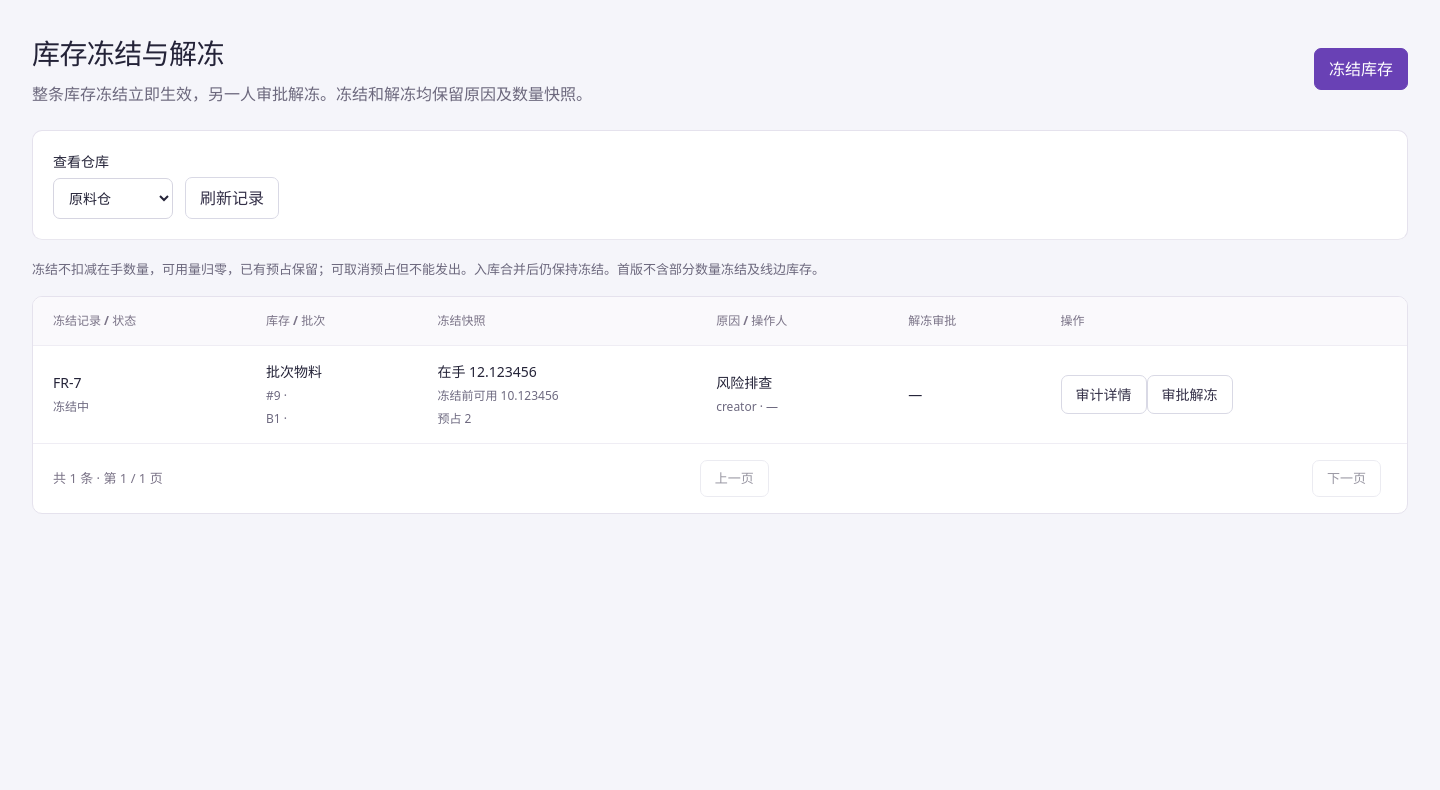
it: keeps a completed write successful when refreshing its list fails
Click the button "审批解冻". click: (1190, 394)
box: x1=1146 y1=374 x2=1232 y2=414
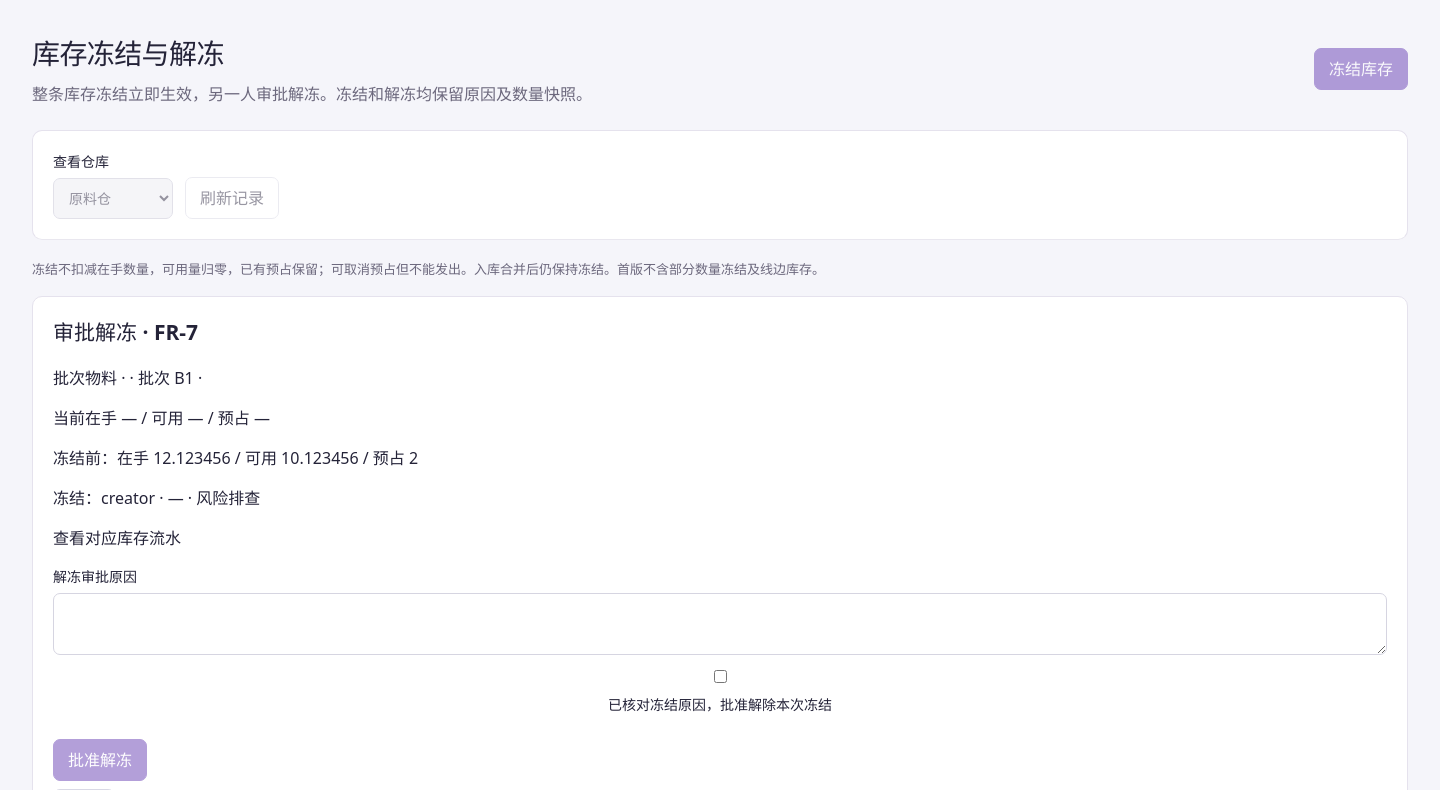
Type "已复核" into the text box labelled "解冻审批原因". click: (720, 624)
box: x1=53 y1=593 x2=1387 y2=655
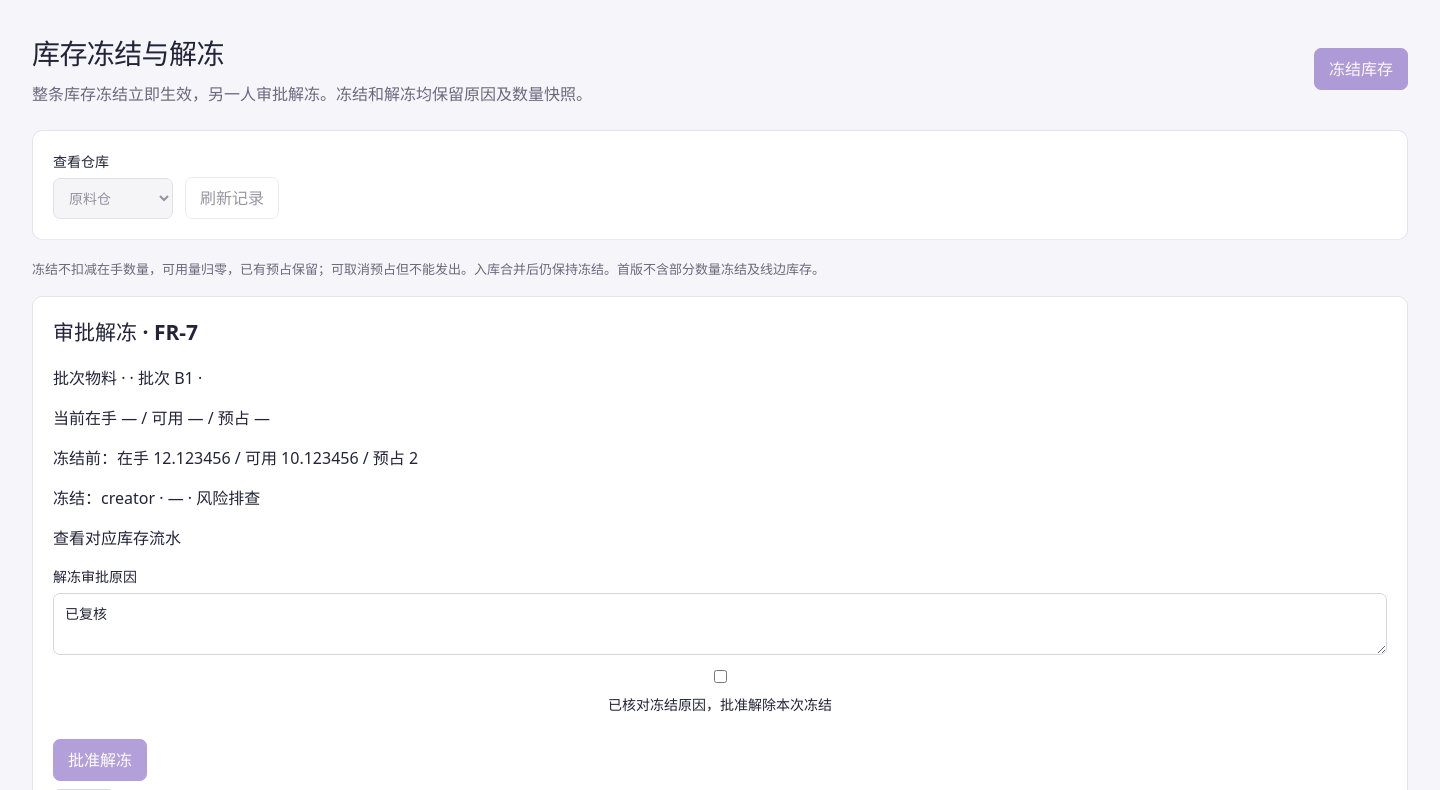
Click the checkbox labelled "已核对冻结原因，批准解除本次冻结". click: (720, 676)
box: x1=714 y1=670 x2=727 y2=683
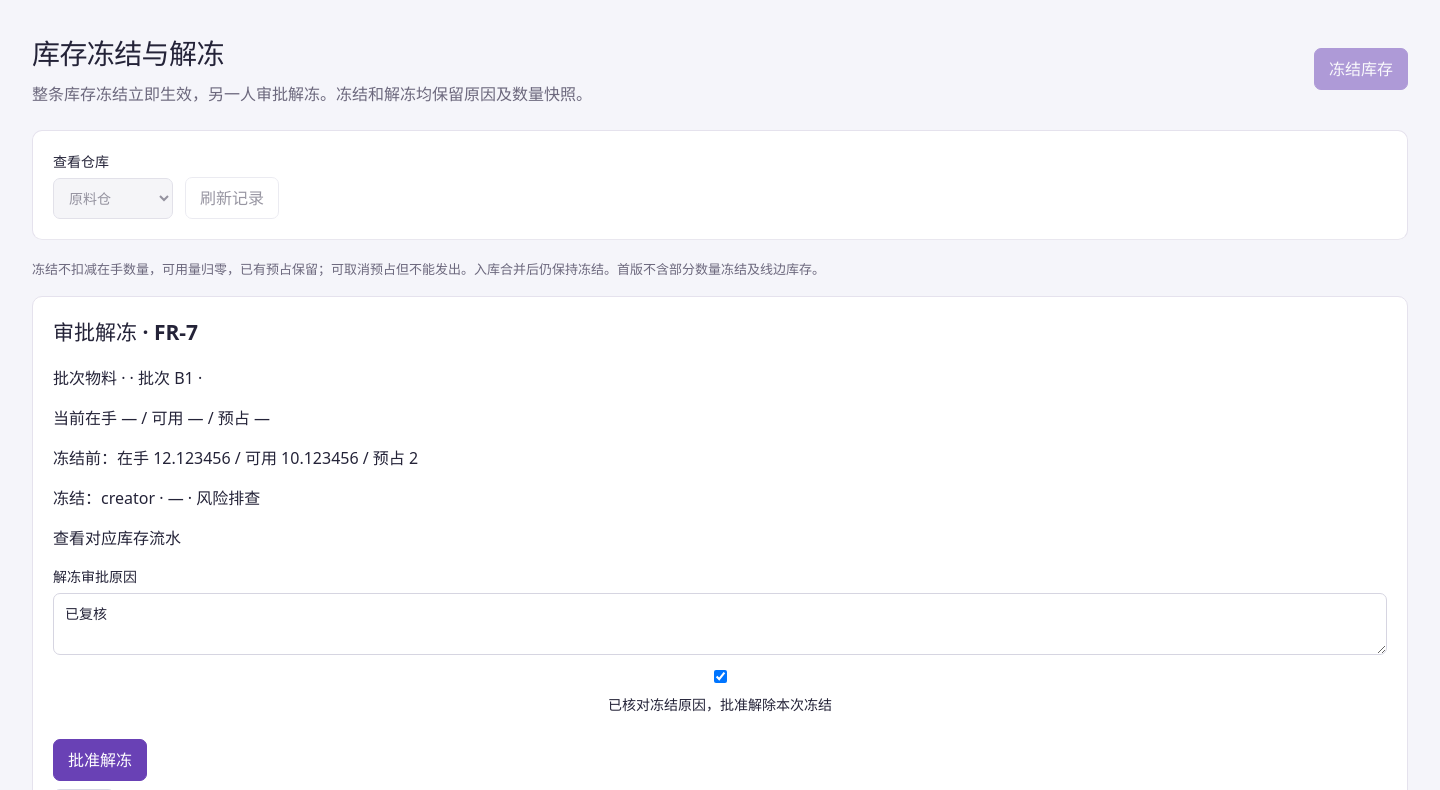
Submit the form, box x1=53 y1=566 x2=1387 y2=781
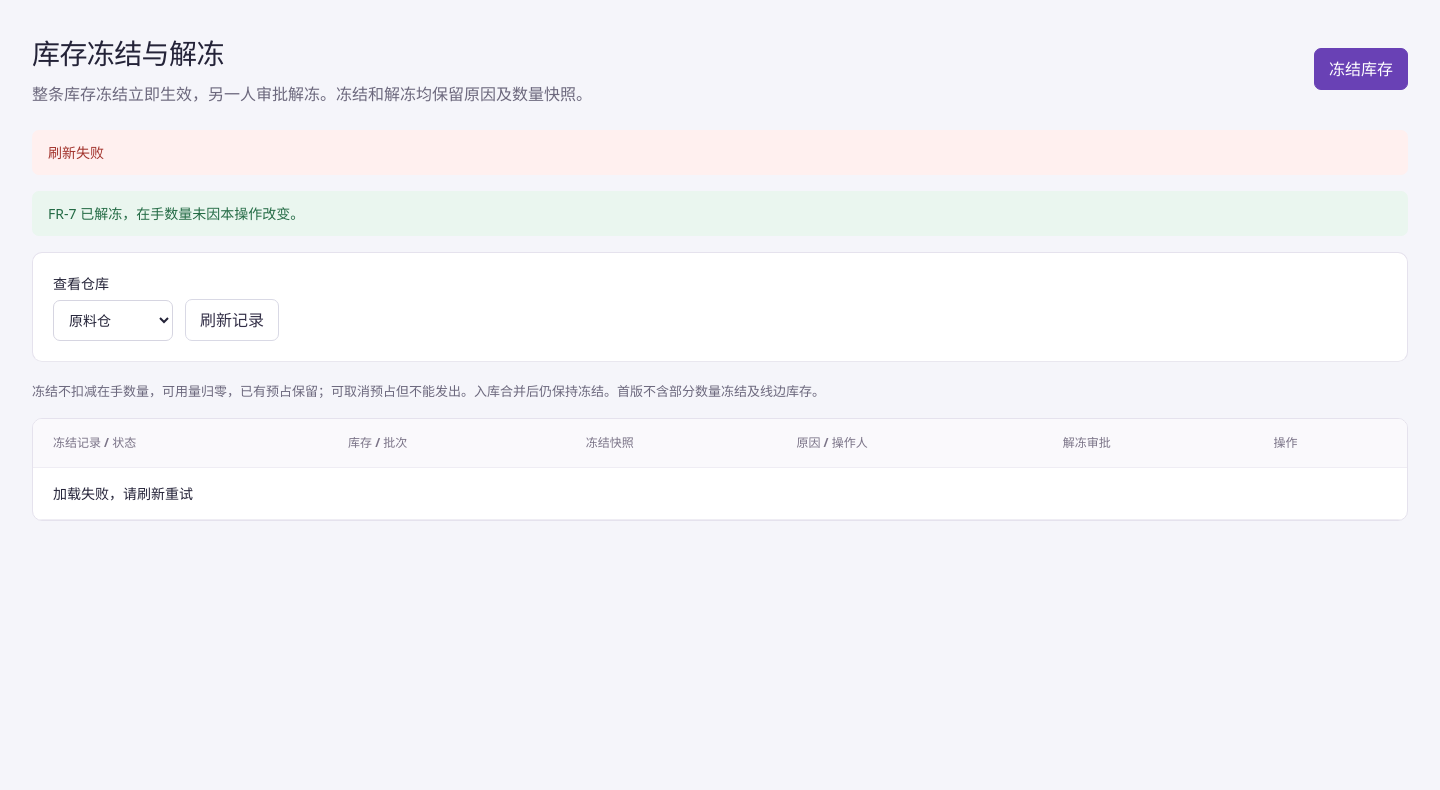
Result: the text "FR-7 已解冻" is shown at x1=48 y1=204 x2=304 y2=223
Result: the text "刷新失败" is shown at x1=32 y1=130 x2=1408 y2=175
